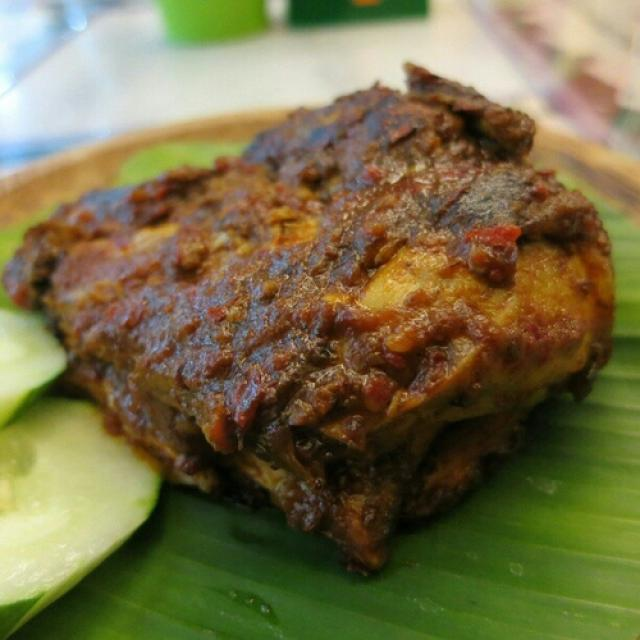鸡肉料理 含炸鸡: (37, 52, 617, 576)
